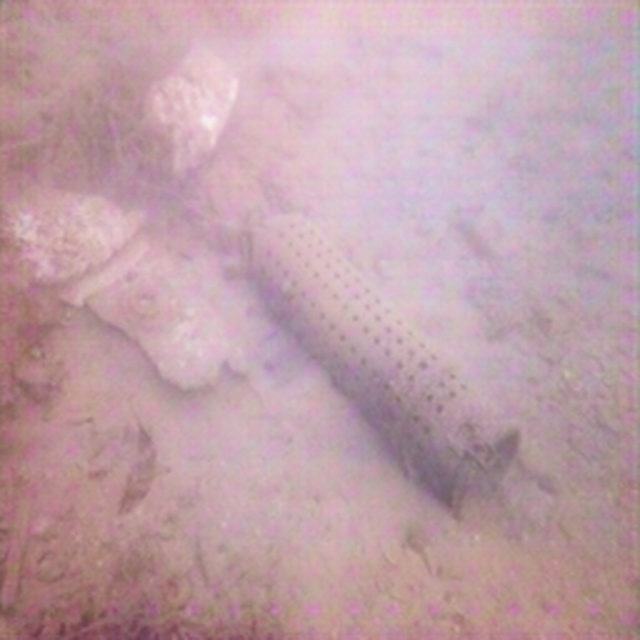mine: (250, 210, 523, 523)
